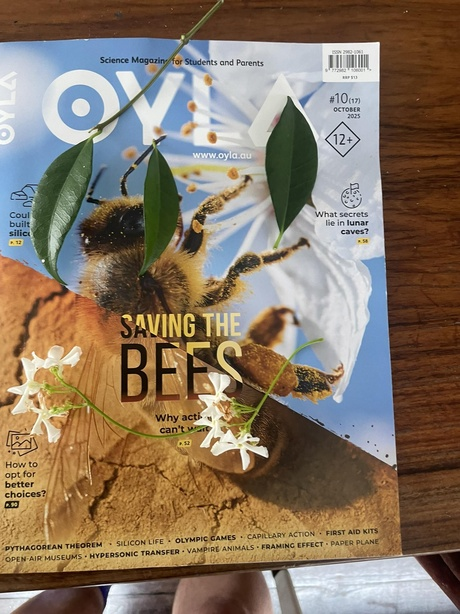leaf: (25, 121, 107, 291), (260, 87, 322, 249), (133, 136, 184, 281)
